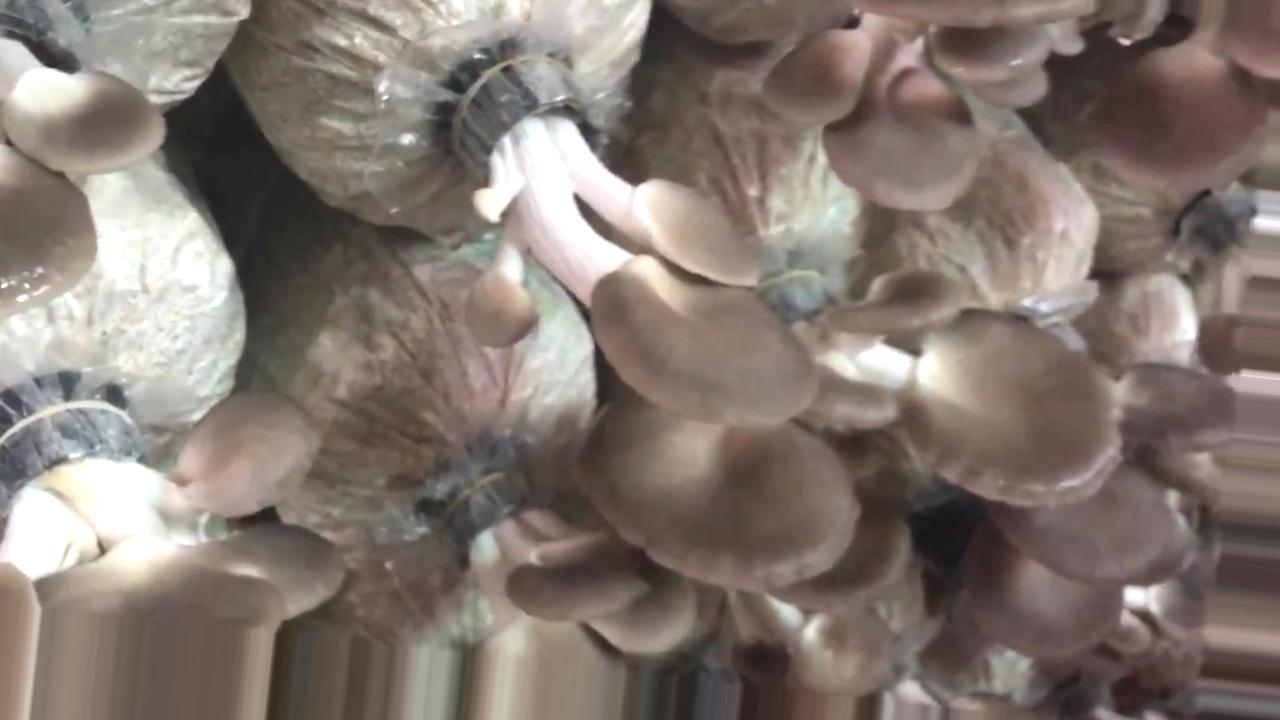nam: (578, 262, 1124, 595), (450, 45, 818, 430), (1, 389, 352, 720), (768, 1, 1106, 214), (416, 468, 698, 720), (1, 1, 170, 321), (1098, 1, 1279, 212)
